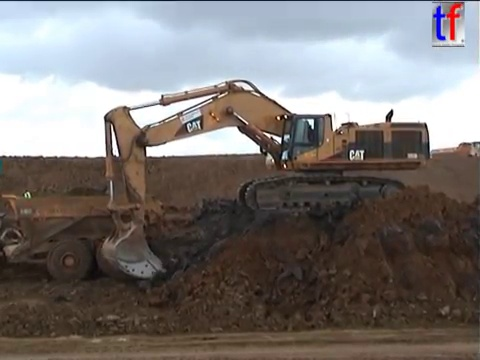excavator: (93, 76, 433, 283)
truck: (1, 191, 166, 283), (429, 140, 479, 166)
worker: (20, 186, 34, 210)
